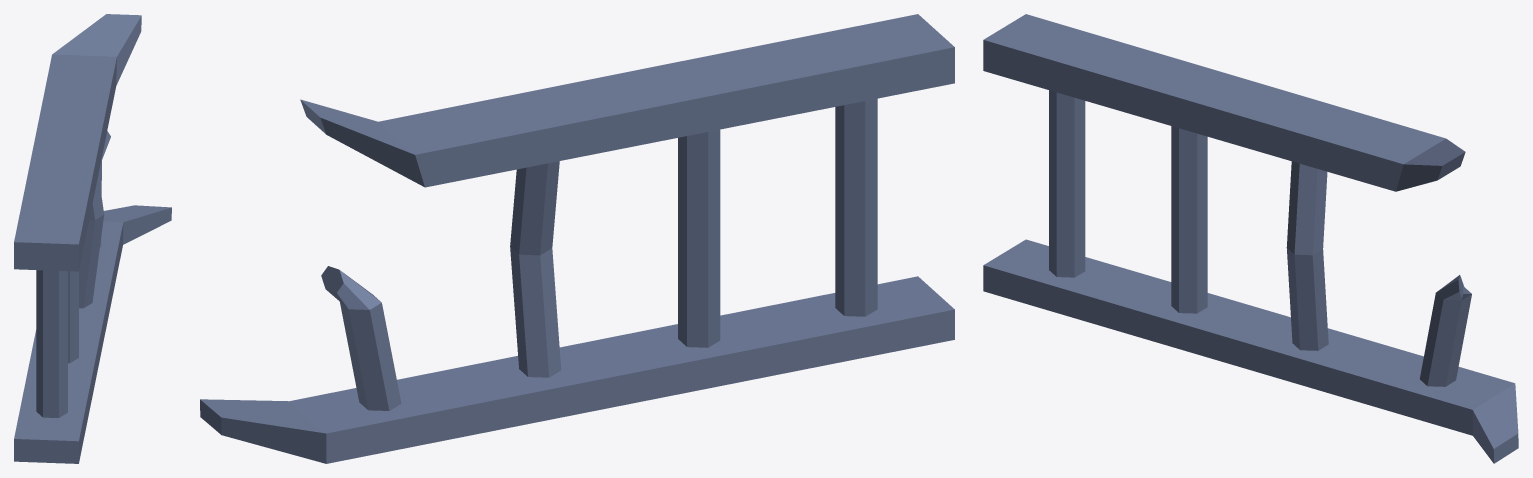
Rendered from n2_damaged_railing_left_grey_0_lev2.003.glb.
The picture shows the model from 3 angles, left to right: view 1: azimuth 30°, elevation 25°; view 2: azimuth 150°, elevation 25°; view 3: azimuth 270°, elevation 25°; orthographic projection. The views are drawn at different scales.
Parts seen in each view (by area): view 1: n2_damaged_railing_left_grey_0_lev2.003; view 2: n2_damaged_railing_left_grey_0_lev2.003; view 3: n2_damaged_railing_left_grey_0_lev2.003.
Part boxes in pixels (x1,y1,x2,y2): n2_damaged_railing_left_grey_0_lev2.003: (14, 14, 171, 463); n2_damaged_railing_left_grey_0_lev2.003: (200, 14, 954, 463); n2_damaged_railing_left_grey_0_lev2.003: (983, 14, 1518, 463).
Bounding box in the file's own units: 3.12 × 1.96 × 3.49.
